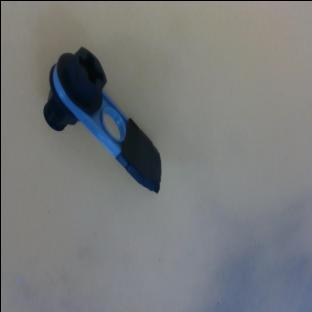part_1_bad: (20, 38, 176, 221)
